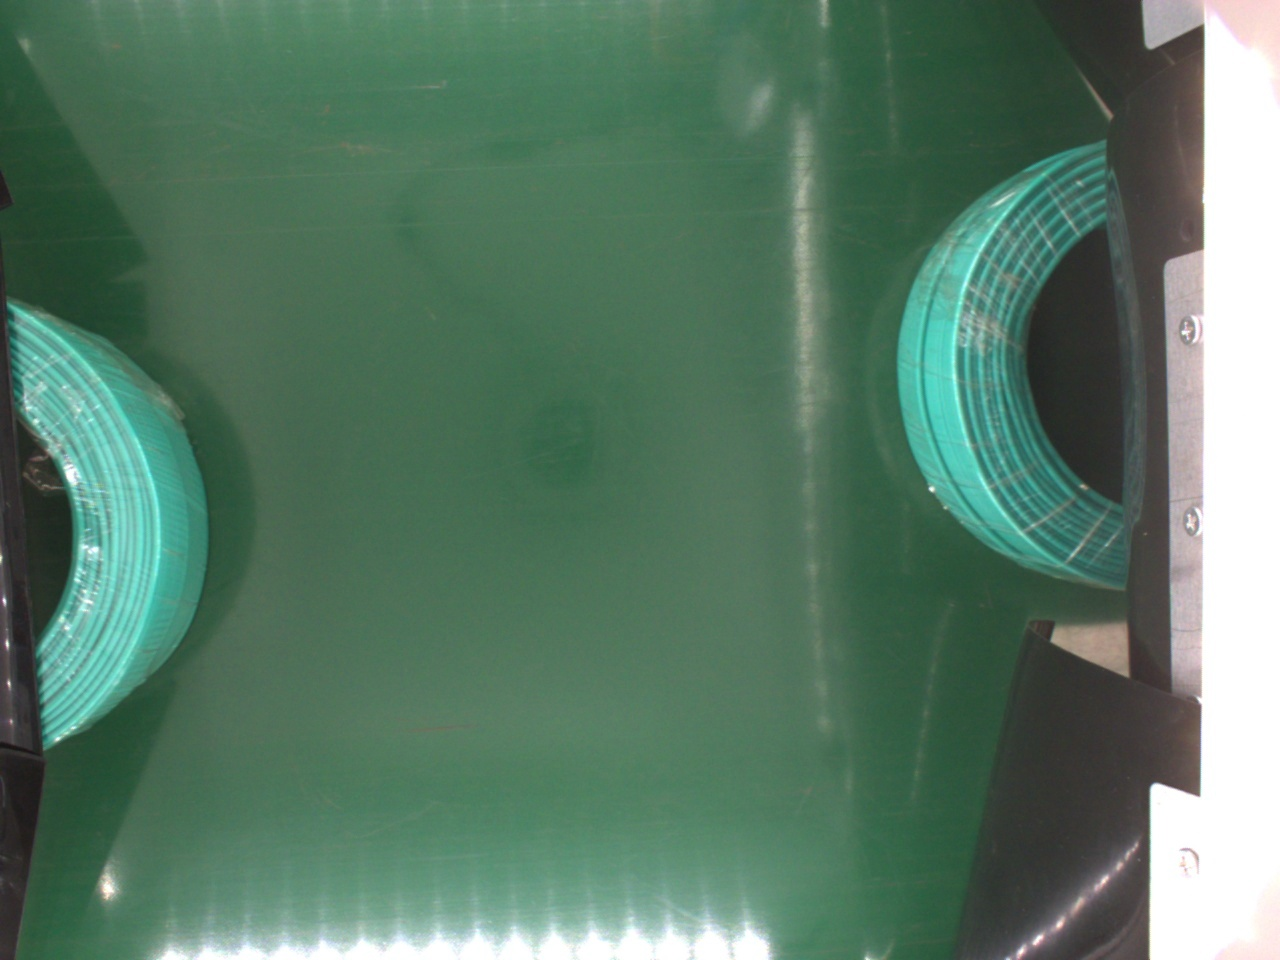green: (886, 139, 1133, 597), (12, 298, 202, 744)
